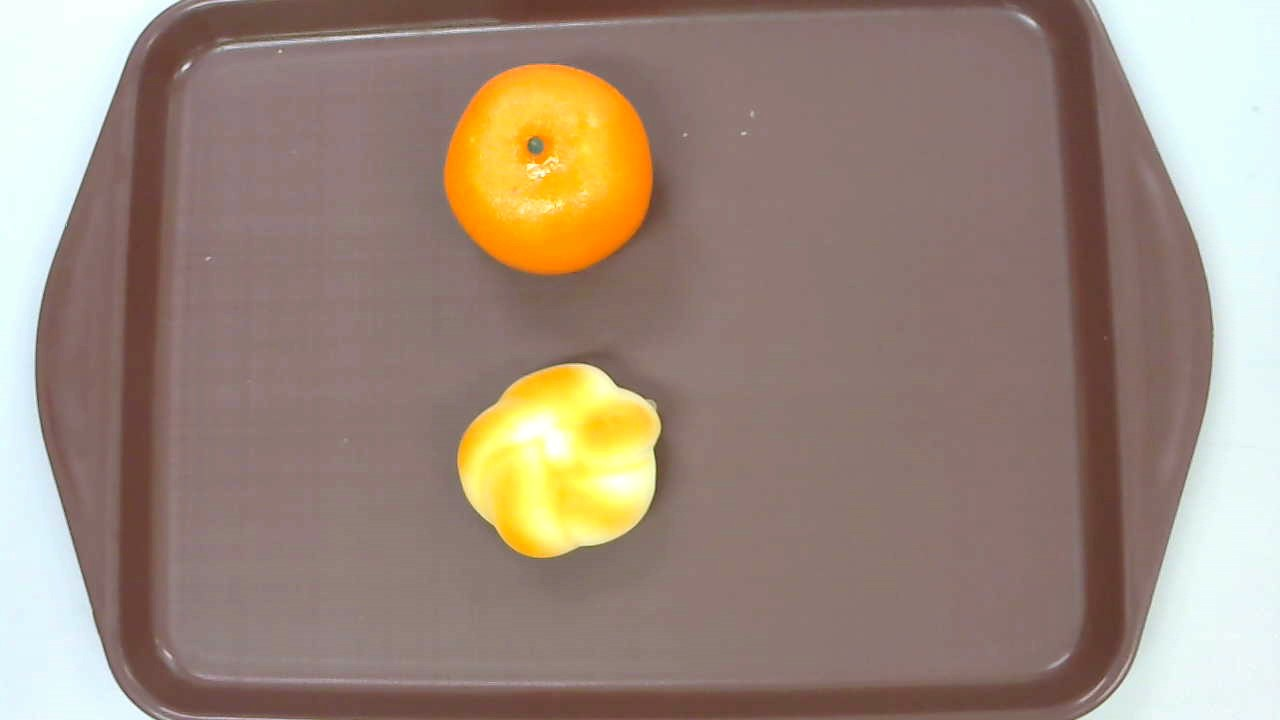orange: (443, 64, 654, 276)
twist bread: (457, 361, 663, 559)
